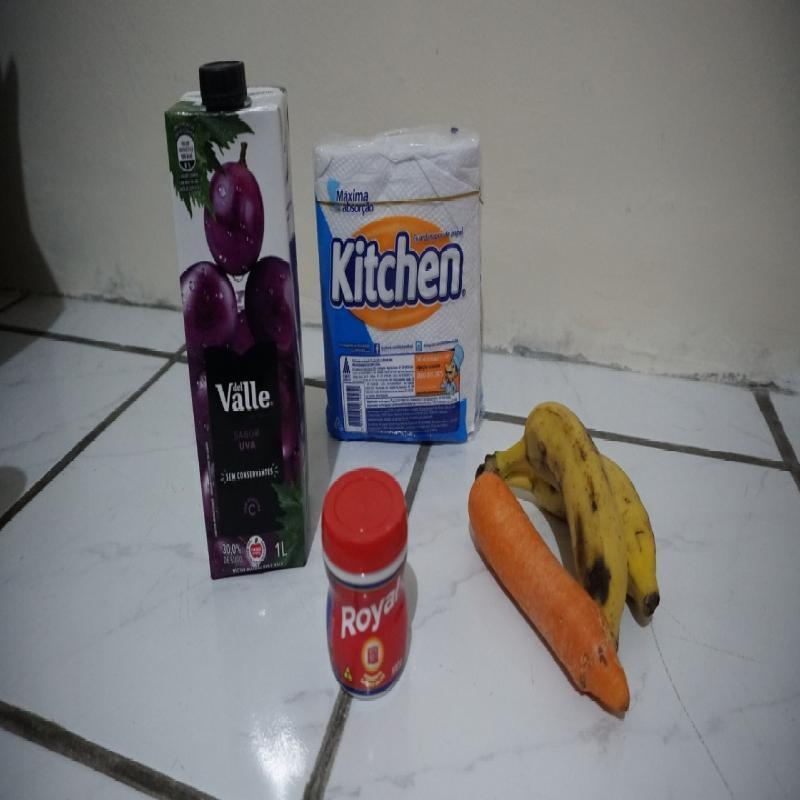Banana: (472, 400, 661, 654)
Carrot: (467, 468, 632, 716)
Napkin: (312, 123, 488, 450)
Yeast: (320, 468, 410, 698)
